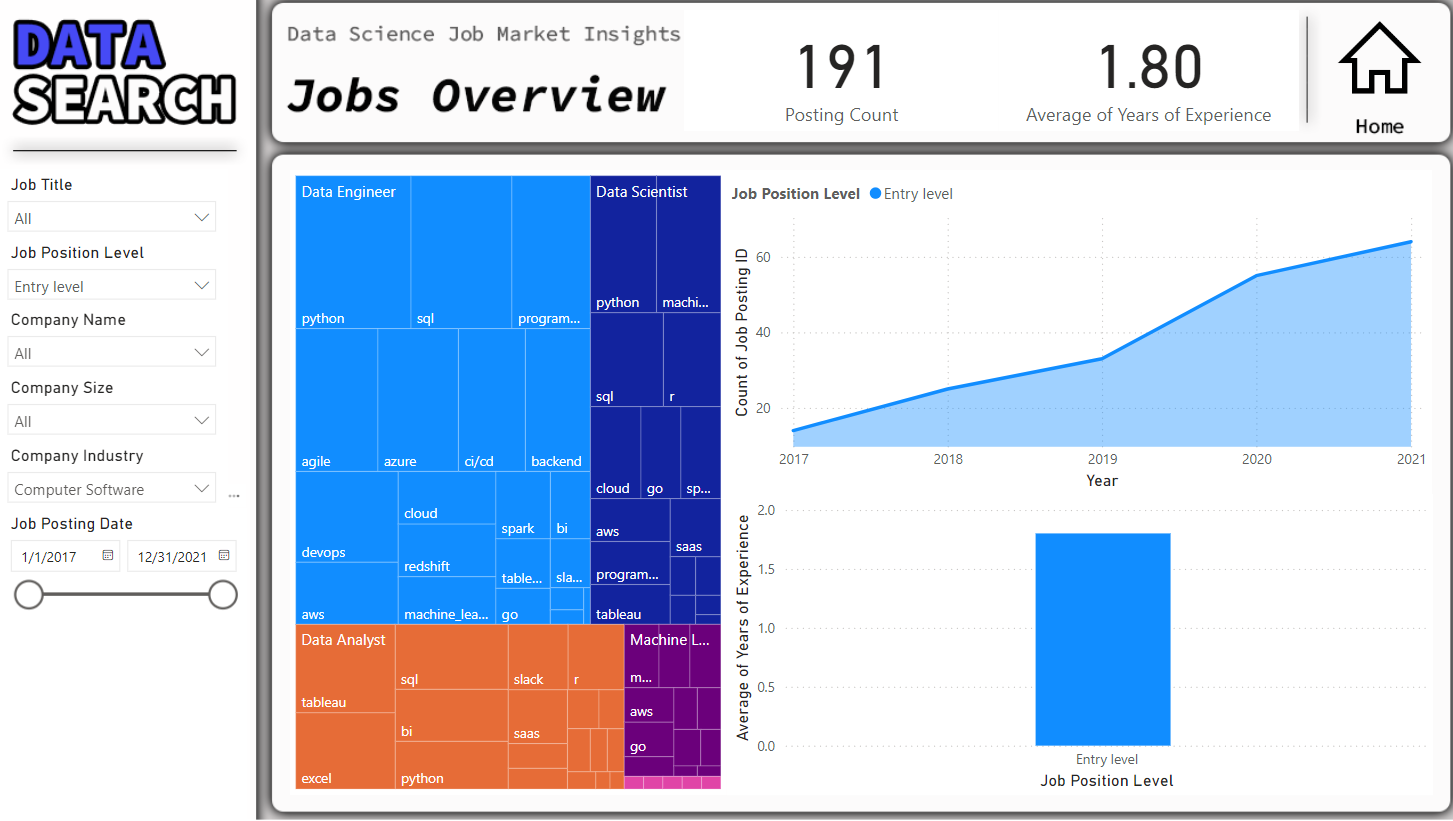

This screenshot's page, from the dashboard's own definition file:
{"tool":"powerbi","page":{"name":"Job","canvas":[1280,720],"ordinal":1},"visuals":[{"type":"treemap","fields":{"Group":["Job Postings.Job Title"],"Values":["CountNonNull(Job Skills.Job Skills)"],"Details":["Job Skills.Job Skills"]},"box":[257.8,149.4,382.7,547.7],"z":0},{"type":"columnChart","fields":{"Y":["Avg(Job Postings.Years of Experience)"],"Category":["Job Postings.Job Position Level"]},"box":[640.5,433.5,619,263.6],"z":1000},{"type":"stackedAreaChart","fields":{"Category":["Job Postings.Job Posting Date.Variation.Date Hierarchy.Year","Job Postings.Job Posting Date.Variation.Date Hierarchy.Quarter","Job Postings.Job Posting Date.Variation.Date Hierarchy.Month","Job Postings.Job Posting Date.Variation.Date Hierarchy.Day"],"Y":["CountNonNull(Job Postings.Job Posting ID)"],"Series":["Job Postings.Job Position Level"]},"box":[640,148.8,618.6,285],"z":2000},{"type":"card","fields":{"Values":["_Measures.Posting Count"]},"box":[603.4,8.8,276.3,106.4],"z":3000},{"type":"card","fields":{"Values":["Avg(Job Postings.Years of Experience)"]},"box":[879.7,8.8,262.6,106.4],"z":4000},{"type":"slicer","fields":{"Values":["Job Postings.Job Title"]},"box":[0,148.4,203.1,59.6],"z":5000},{"type":"slicer","fields":{"Values":["Job Postings.Job Posting Date"]},"box":[0,445.2,219.7,274.4],"z":6000},{"type":"slicer","fields":{"Values":["Job Postings.Job Position Level"]},"box":[0,208,203.1,59.6],"z":7000},{"type":"slicer","fields":{"Values":["Job Postings.Company Industry"]},"box":[0,385.7,203.1,59.6],"z":8000},{"type":"slicer","fields":{"Values":["Job Postings.Company Size"]},"box":[0,326.1,203.1,59.6],"z":9000},{"type":"slicer","fields":{"Values":["Job Postings.Company Name"]},"box":[0,266.5,203.1,59.6],"z":10000},{"type":"image","box":[1158,8.8,110.3,84],"z":10001}]}

Visuals, with their boxes in screenshot pixels (x1, y1, x2, y2), scaled from the page's 1280x720 canvas onto the 1453x821 screenshot:
treemap - Job Postings.Job Title x CountNonNull(Job Skills.Job Skills): box=[293, 170, 727, 795]
columnChart - Avg(Job Postings.Years of Experience) x Job Postings.Job Position Level: box=[727, 494, 1430, 795]
stackedAreaChart - Job Postings.Job Posting Date.Variation.Date Hierarchy.Year x Job Postings.Job Posting Date.Variation.Date Hierarchy.Quarter: box=[726, 170, 1429, 495]
card - _Measures.Posting Count: box=[685, 10, 999, 131]
card - Avg(Job Postings.Years of Experience): box=[999, 10, 1297, 131]
slicer - Job Postings.Job Title: box=[0, 169, 231, 237]
slicer - Job Postings.Job Posting Date: box=[0, 508, 249, 820]
slicer - Job Postings.Job Position Level: box=[0, 237, 231, 305]
slicer - Job Postings.Company Industry: box=[0, 440, 231, 508]
slicer - Job Postings.Company Size: box=[0, 372, 231, 440]
slicer - Job Postings.Company Name: box=[0, 304, 231, 372]
image: box=[1315, 10, 1440, 106]
